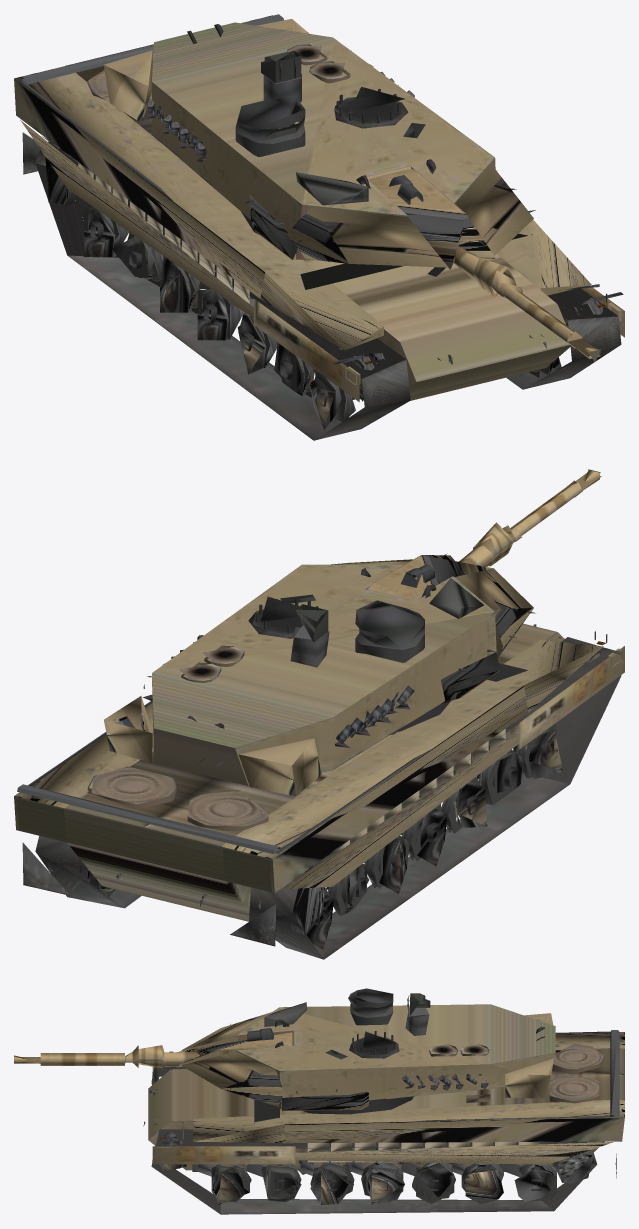
File: tank.lod1.glb
3 renders of one model, top to bottom at view 1: azimuth 30°, elevation 25°; view 2: azimuth 150°, elevation 25°; view 3: azimuth 270°, elevation 25°, orthographic. The views are drawn at different scales.
Parts seen in each view (by area): view 1: Body 1_Textures Body _0; view 2: Body 1_Textures Body _0; view 3: Body 1_Textures Body _0.
Boxes of the visible parts, x1,y1,x2,y2 form: Body 1_Textures Body _0: [14, 14, 624, 440]; Body 1_Textures Body _0: [14, 469, 624, 959]; Body 1_Textures Body _0: [14, 988, 624, 1214].
Bounding box in the file's own units: 3.5 × 2.94 × 9.5.
1 material, 1 textured.
